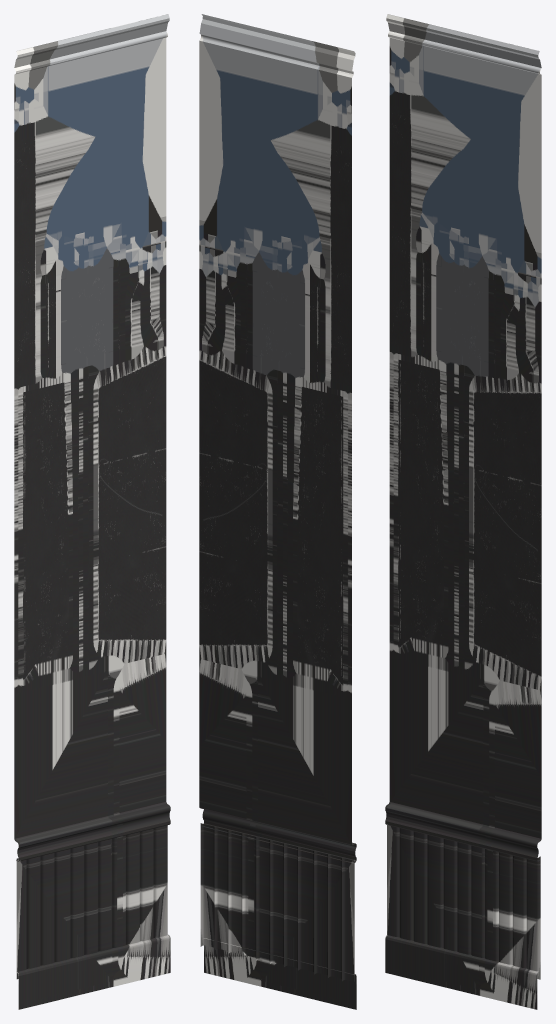
File: Mod_Wall_A_1x6_High.fbx
3 renders of one model, left to right at view 1: azimuth 30°, elevation 25°; view 2: azimuth 150°, elevation 25°; view 3: azimuth 330°, elevation 25°, orthographic.
Visible parts, largest first — view 1: Mod_Wall_A_2x6_High; view 2: Mod_Wall_A_2x6_High; view 3: Mod_Wall_A_2x6_High.
Boxes of the visible parts, <box> form: Mod_Wall_A_2x6_High: <box>14,14,170,1009</box>; Mod_Wall_A_2x6_High: <box>199,14,356,1009</box>; Mod_Wall_A_2x6_High: <box>385,14,541,1009</box>.
Bounding box in the file's own units: 99.86 × 600 × 5.
